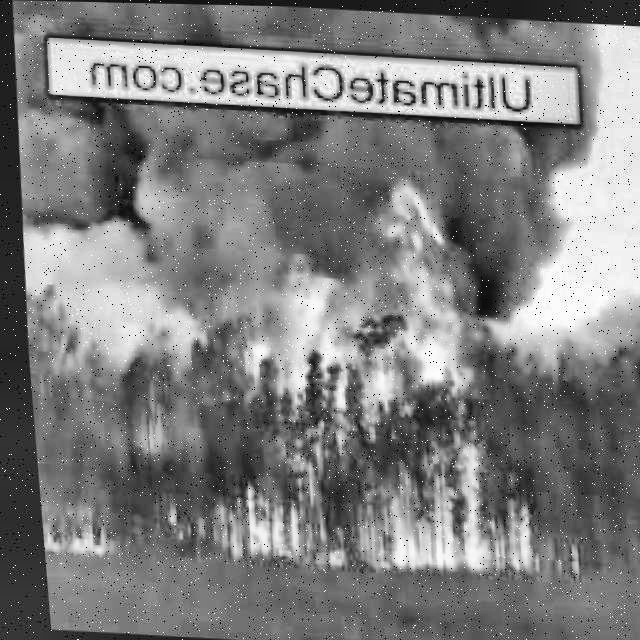Fire: (198, 164, 466, 409), (149, 407, 552, 567), (33, 508, 107, 556)
Smoke: (6, 99, 212, 356), (10, 0, 596, 59)
